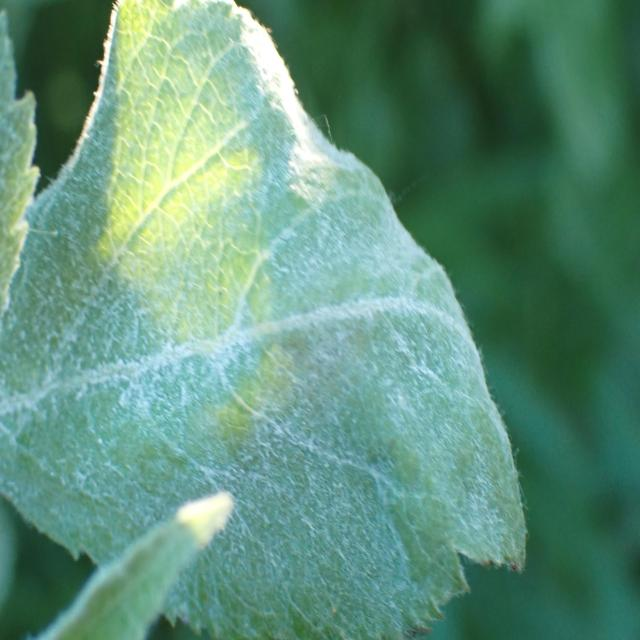Powdery_mildew: (6, 0, 534, 640)
